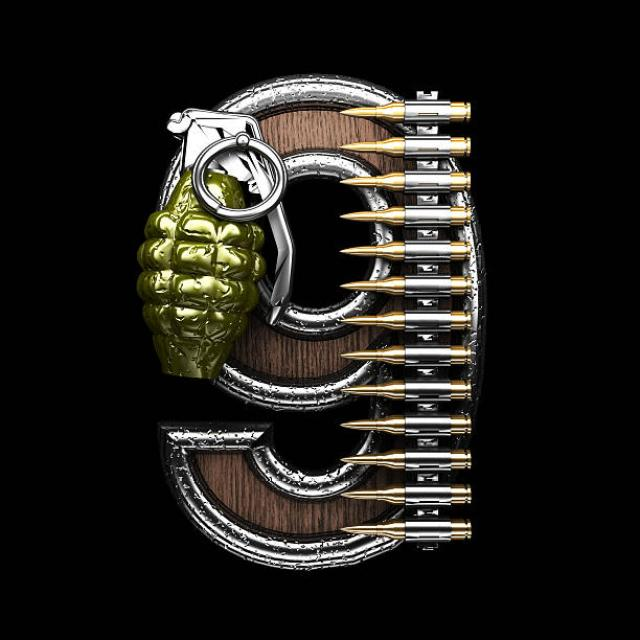grenade: (137, 109, 306, 388)
